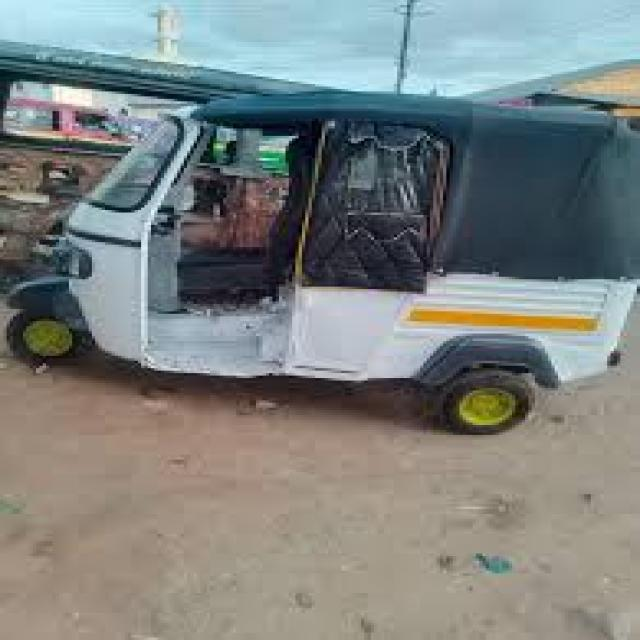tuktuk: (0, 61, 640, 479)
